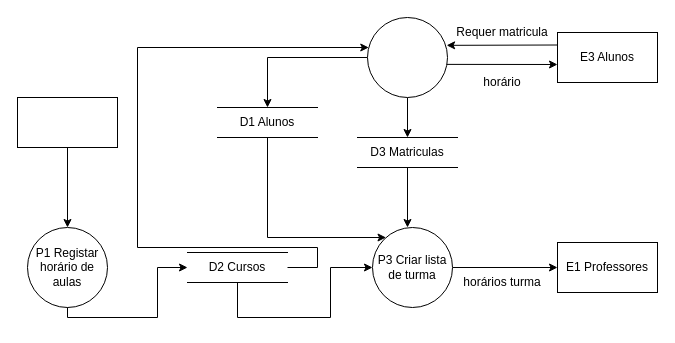
The diagram is 675 pixels wide and 343 high, and some of its shapes have lost their labels. The centre of each missing label's shape, as x and y in pixels:
E2 Equipa Horários: (67,122)
P2 Matricular aluno: (407,57)
